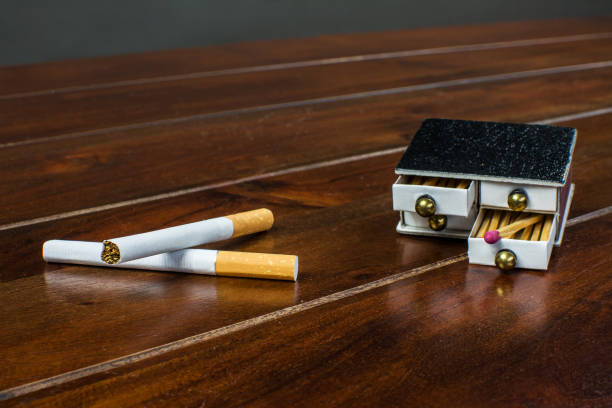cigarette: (41, 237, 299, 282), (99, 205, 274, 266)
